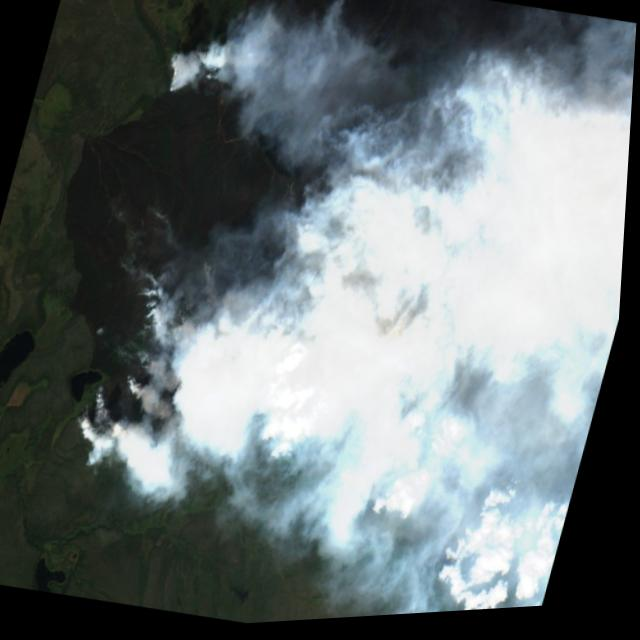fire: (38, 1, 509, 521)
